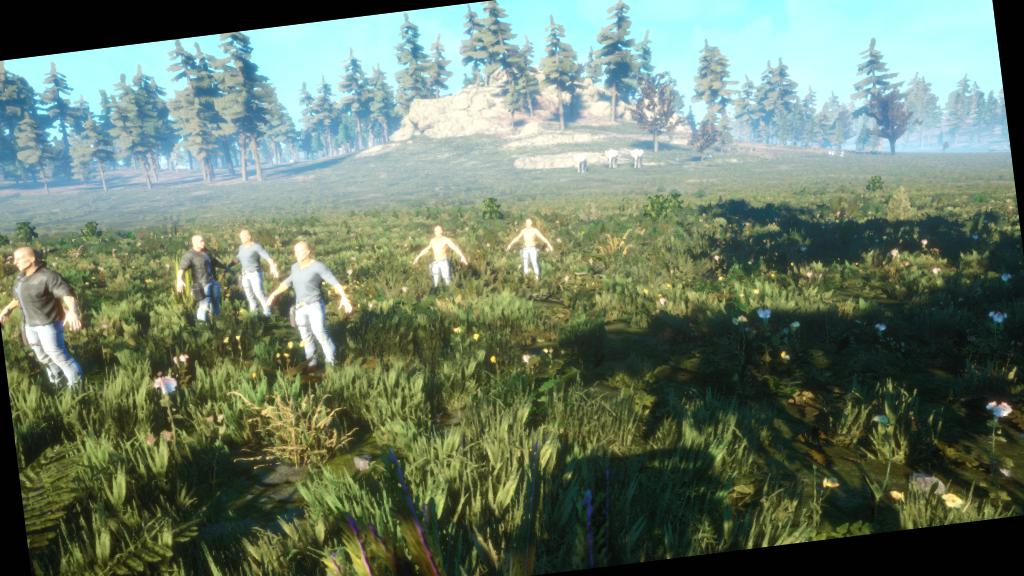elephant: (567, 142, 595, 186), (600, 140, 624, 173), (626, 143, 650, 174)
human: (221, 200, 369, 400), (0, 225, 118, 407), (377, 180, 476, 308), (157, 198, 232, 344), (496, 204, 562, 295)
